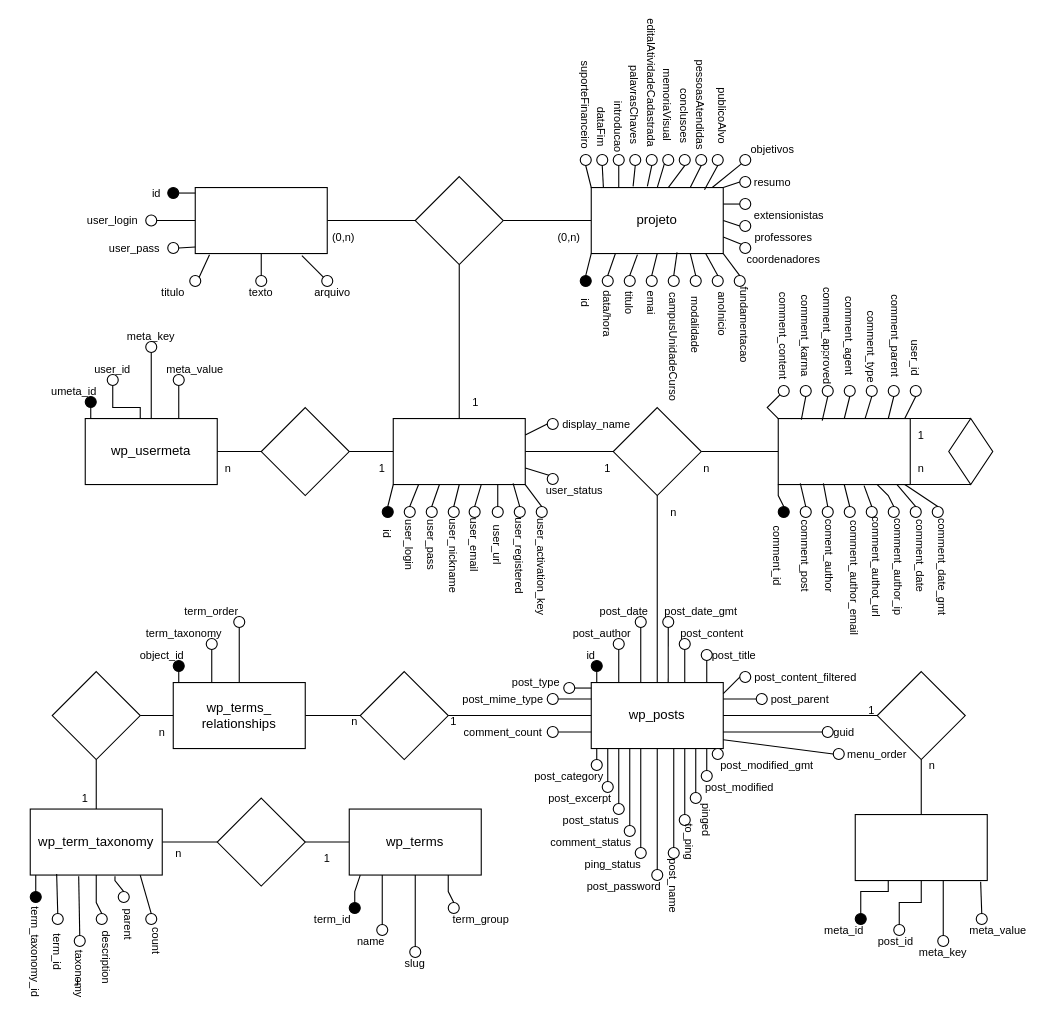
This 1049x1026 diagram has some shape labels left out. Here are the shapes that lost their labels. From the top down, the centre of each, then its label:
At [260,220]: "topico_forum".
At [458,451]: "wp_user".
At [843,451]: "wp_comments".
At [920,847]: "wp_postmeta".
